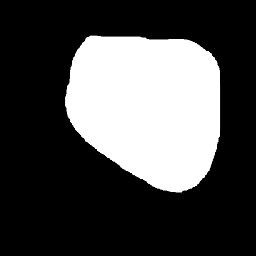mass: (67, 41, 220, 179)
